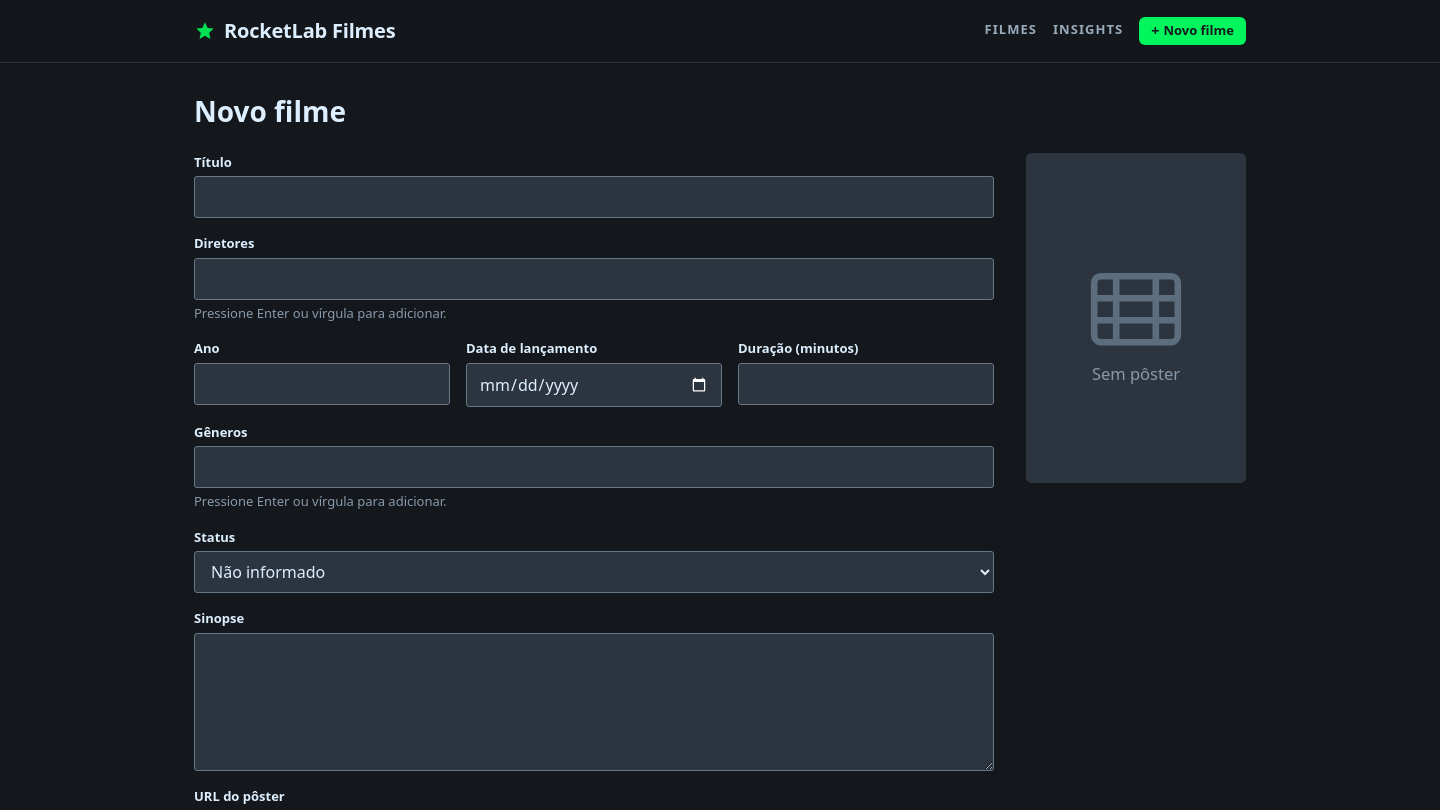
Test: NewMoviePage — cadastro › valida no cliente e não envia
Type "1700" into the field labelled "Ano" at coordinates (322, 384), box [194,363,450,405]
(page scrolled)
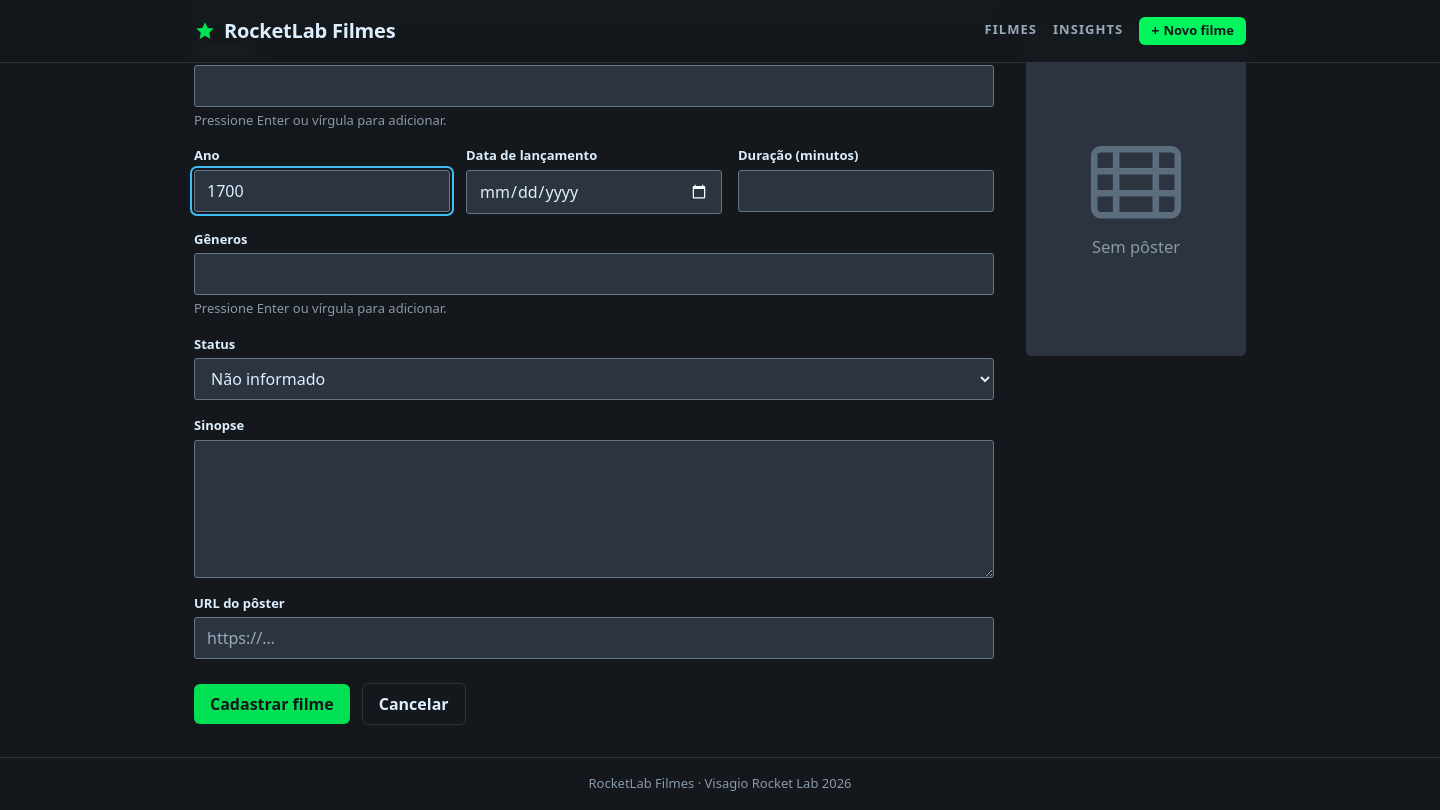
Click the button "Cadastrar filme" at coordinates (272, 704), box [194,684,350,724]
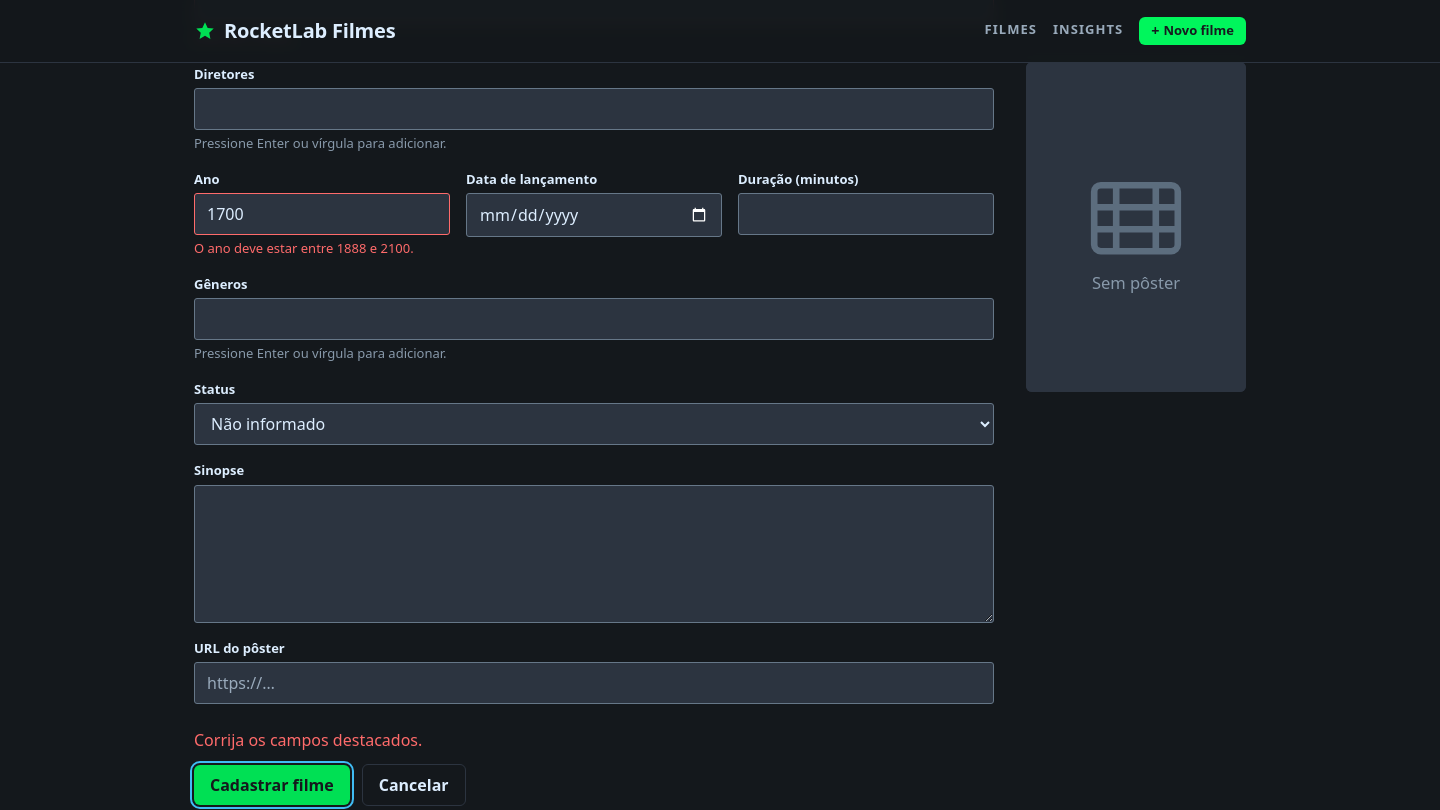
Expected: the text "Informe o título." is shown, [194,29,294,47]
Now the text "O ano deve estar entre 1888 e 2100." is shown, box [194,239,450,259]
Now the message reads "Corrija os campos destacados.", box [194,729,422,751]
